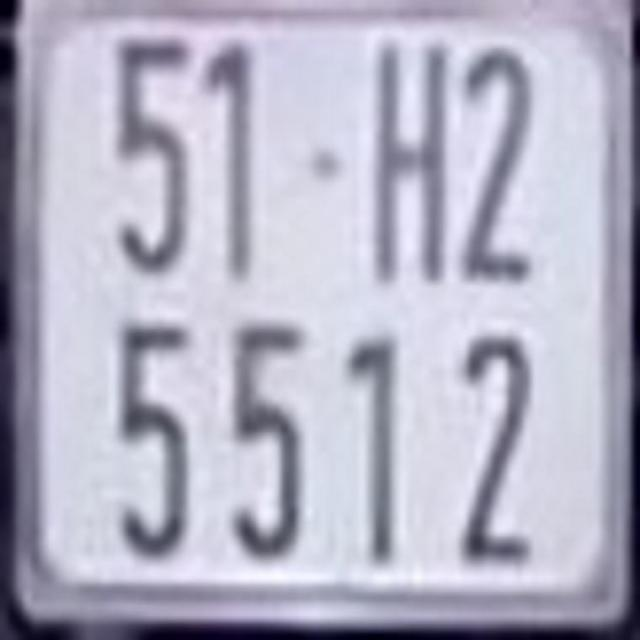1: (342, 323, 421, 562), (198, 34, 258, 277)
2: (457, 322, 538, 568), (225, 314, 306, 556), (461, 40, 539, 283), (113, 316, 191, 559)
5: (109, 28, 191, 274)
H: (362, 32, 451, 283)
